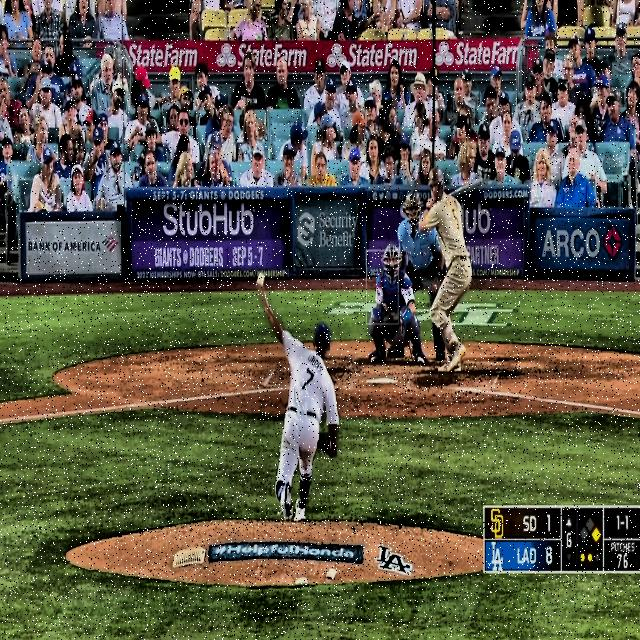baseball: (257, 273, 265, 287)
